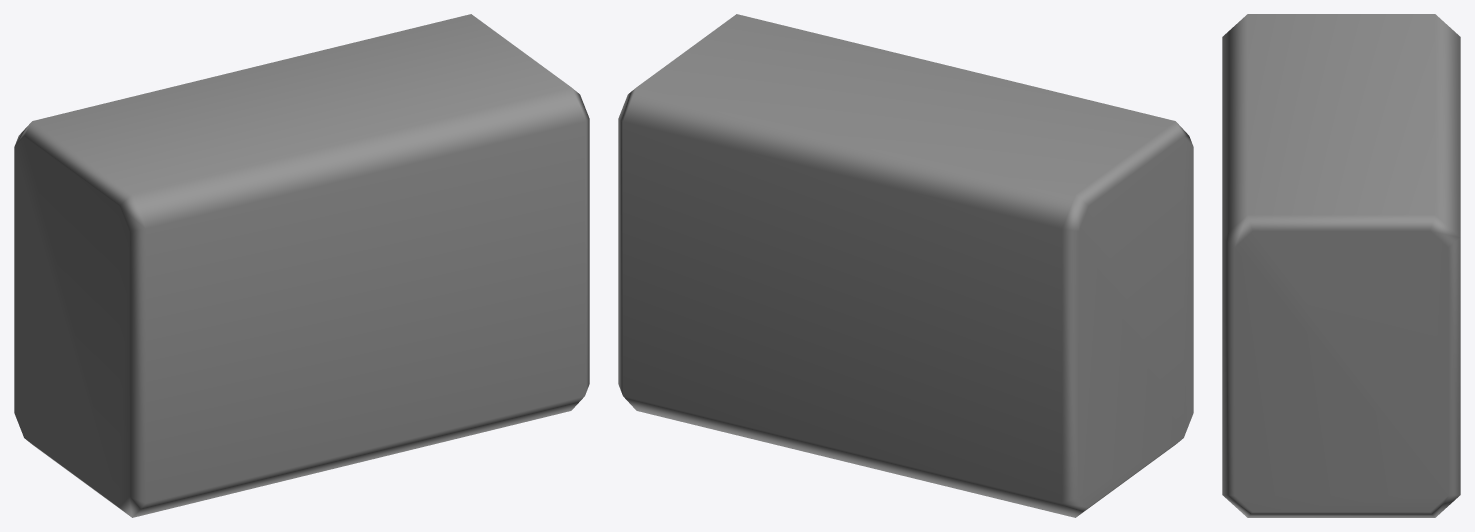
File: brick_001.fbx
The picture shows the model from 3 angles, left to right: view 1: azimuth 30°, elevation 25°; view 2: azimuth 150°, elevation 25°; view 3: azimuth 270°, elevation 25°; orthographic projection. The views are drawn at different scales.
Parts seen in each view (by area): view 1: brick_001; view 2: brick_001; view 3: brick_001.
Part boxes in pixels (x1,y1,x2,y2): brick_001: (14, 14, 589, 517); brick_001: (618, 14, 1193, 517); brick_001: (1222, 14, 1460, 517).
Size of the model in its own units: 193 by 92.08 by 129.
